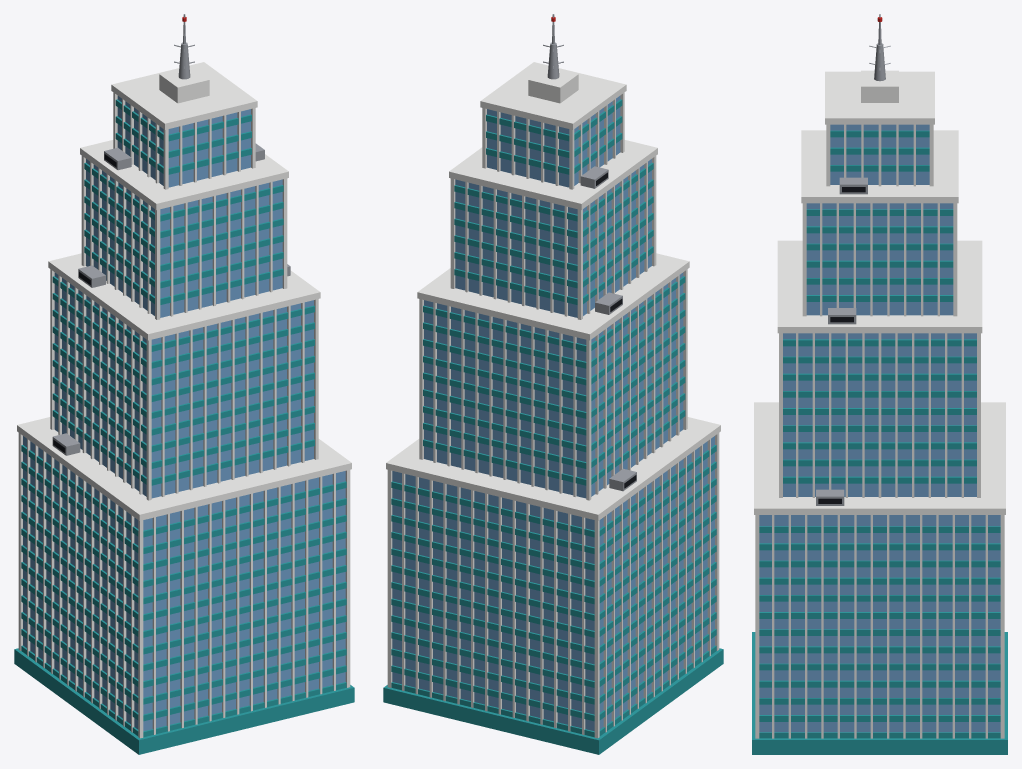
Rendered from Skyline_Stepped.fbx.
3 renders of one model, left to right at view 1: azimuth 30°, elevation 25°; view 2: azimuth 150°, elevation 25°; view 3: azimuth 270°, elevation 25°, orthographic. The views are drawn at different scales.
Parts seen in each view (by area): view 1: White.005, Window.006, Teal.001, Metal.005; view 2: White.005, Window.006, Teal.001, Metal.005; view 3: Window.006, White.005, Teal.001, Metal.005.
Boxes of the visible parts, left/top/right/bottom form: White.005: left=17, top=62, right=351, bottom=738; Window.006: left=23, top=96, right=345, bottom=731; Teal.001: left=14, top=99, right=354, bottom=754; Metal.005: left=52, top=14, right=290, bottom=455; White.005: left=386, top=62, right=720, bottom=738; Window.006: left=392, top=96, right=714, bottom=731; Teal.001: left=383, top=99, right=723, bottom=754; Metal.005: left=543, top=14, right=636, bottom=491; Window.006: left=759, top=124, right=1000, bottom=732; White.005: left=754, top=70, right=1005, bottom=738; Teal.001: left=752, top=130, right=1007, bottom=754; Metal.005: left=816, top=14, right=890, bottom=505.
Size of the model in its own units: 54 by 160 by 54.
